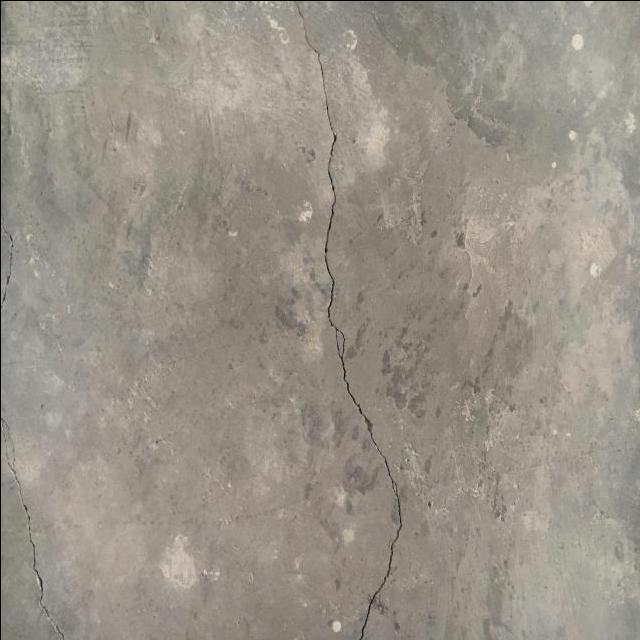SurfaceCrack: (265, 0, 434, 640), (0, 0, 97, 639)
